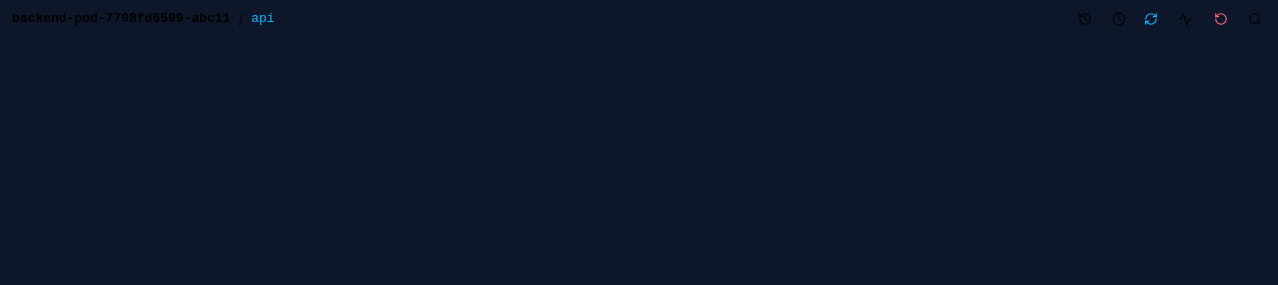
Test case: K8sLogView › toggles metrics panel when Metrics button is clicked without hiding controls
This screenshot has width=1278, height=285.
// Toggle on
What coordinates should you click on to do the following:
click the button with test id "toggle-metrics-button"
I would click on:
 (1185, 19)
Its box is [1170,8,1200,30].
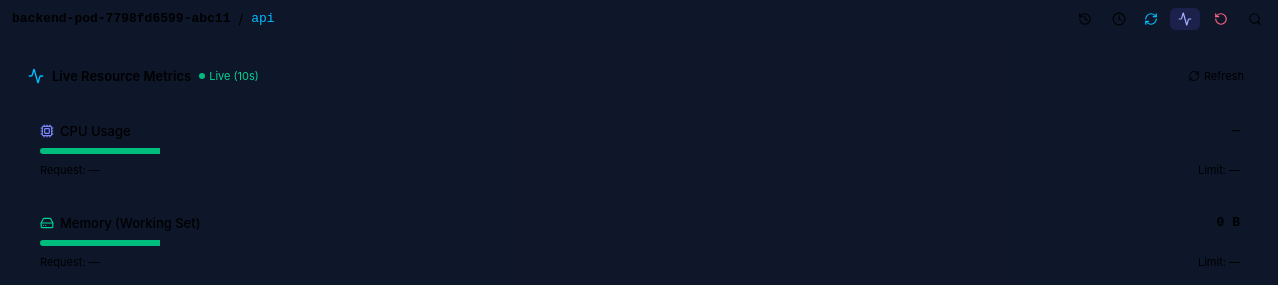
Check: the text "Live Resource Metrics" is shown, box [52,67,191,85]
// Toggle off
What coordinates should you click on to do the following:
click the button with test id "toggle-metrics-button"
I would click on:
 (1185, 19)
Its box is [1170,8,1200,30].
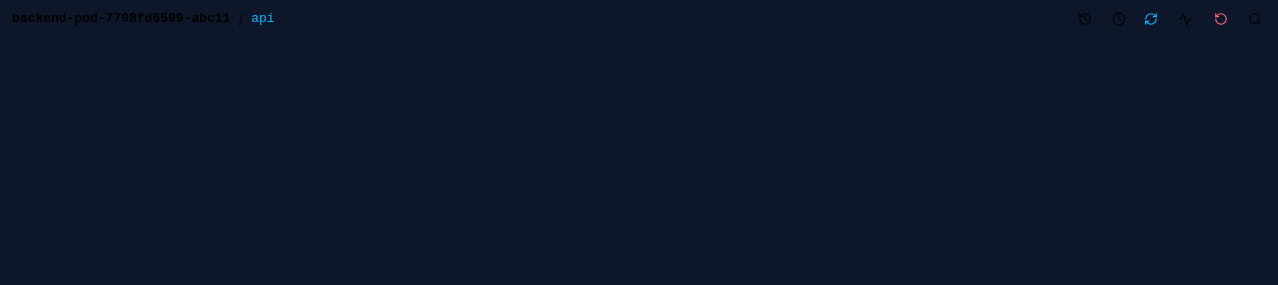
Check: the text "Live Resource Metrics" is gone
